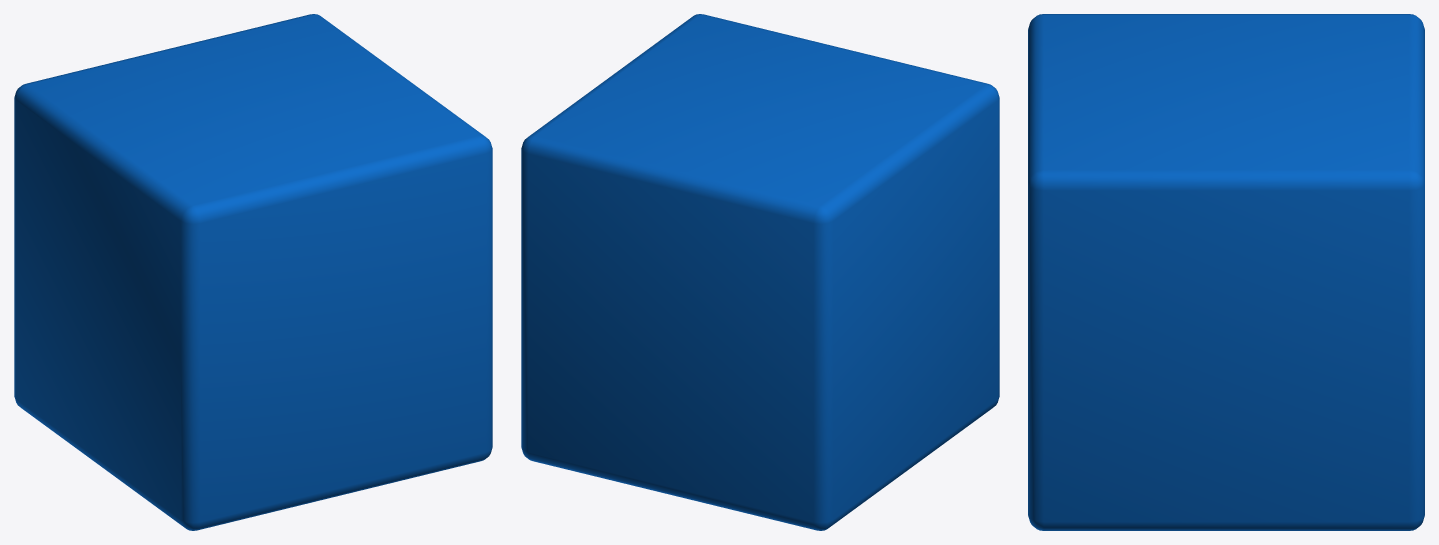
Rendered from ChamferCube.FBX.
3 renders of one model, left to right at view 1: azimuth 30°, elevation 25°; view 2: azimuth 150°, elevation 25°; view 3: azimuth 270°, elevation 25°, orthographic. The views are drawn at different scales.
Visible parts, largest first — view 1: SM_ChamferCube; view 2: SM_ChamferCube; view 3: SM_ChamferCube.
Part boxes in pixels (bbox=[...]): SM_ChamferCube: bbox=[14, 14, 492, 530]; SM_ChamferCube: bbox=[521, 14, 999, 530]; SM_ChamferCube: bbox=[1028, 14, 1424, 530].
Bounding box in the file's own units: 100 × 100 × 100.
